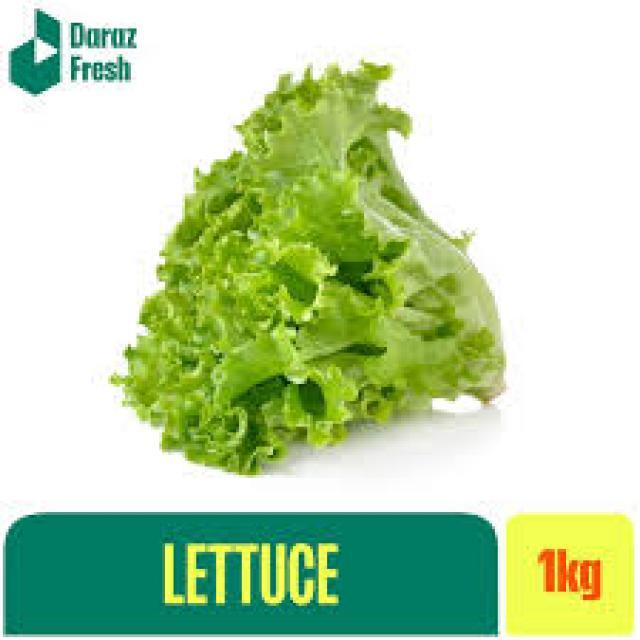Lettuce: (110, 57, 508, 474)
